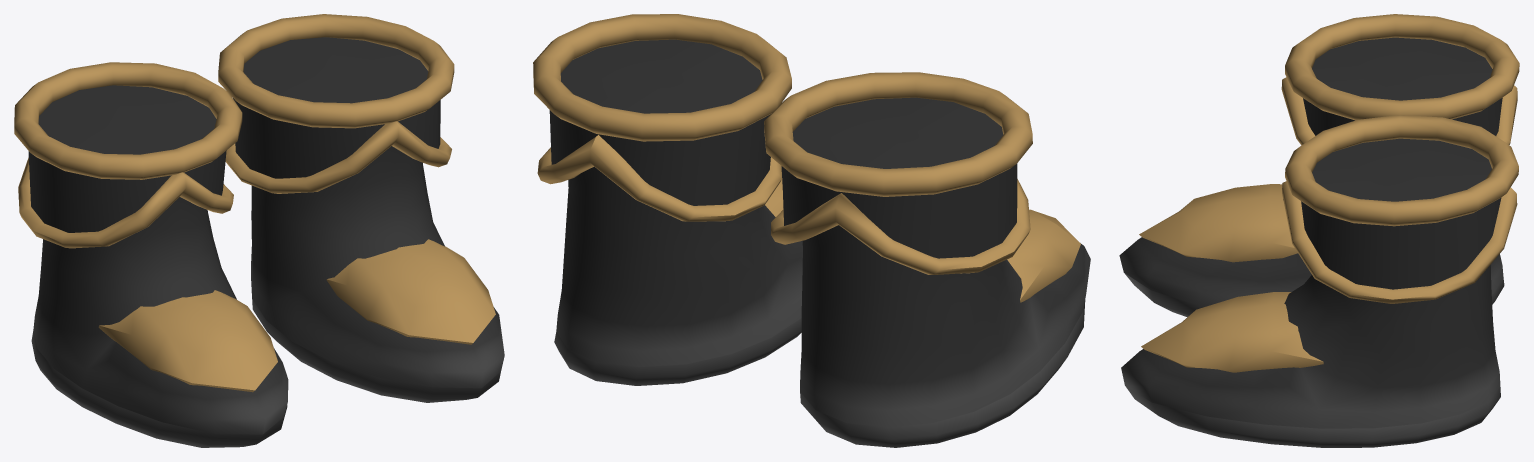
File: cizme.fbx
3 renders of one model, left to right at view 1: azimuth 30°, elevation 25°; view 2: azimuth 150°, elevation 25°; view 3: azimuth 270°, elevation 25°, orthographic. The views are drawn at different scales.
Visible parts, largest first — view 1: set 1 zicme; view 2: set 1 zicme; view 3: set 1 zicme.
Boxes of the visible parts, <box> form: set 1 zicme: <box>14,14,504,447</box>; set 1 zicme: <box>533,14,1090,447</box>; set 1 zicme: <box>1119,14,1519,447</box>.
Size of the model in its own units: 130 by 78.98 by 112.
